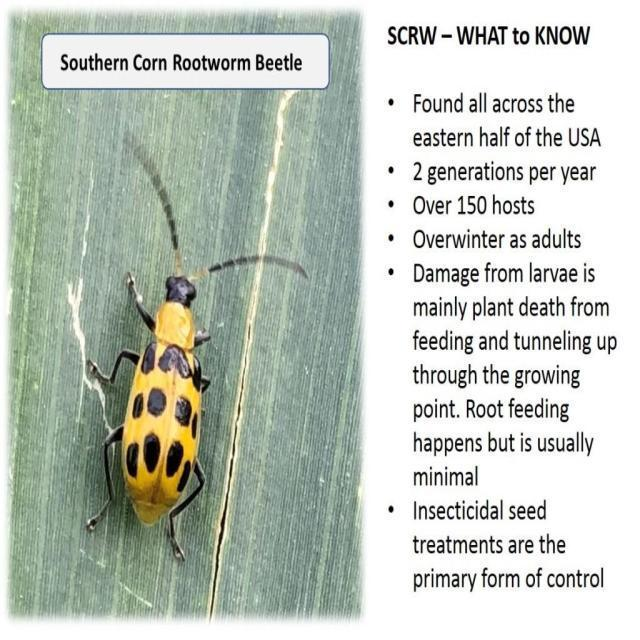gusano_verde: (86, 133, 306, 562)
